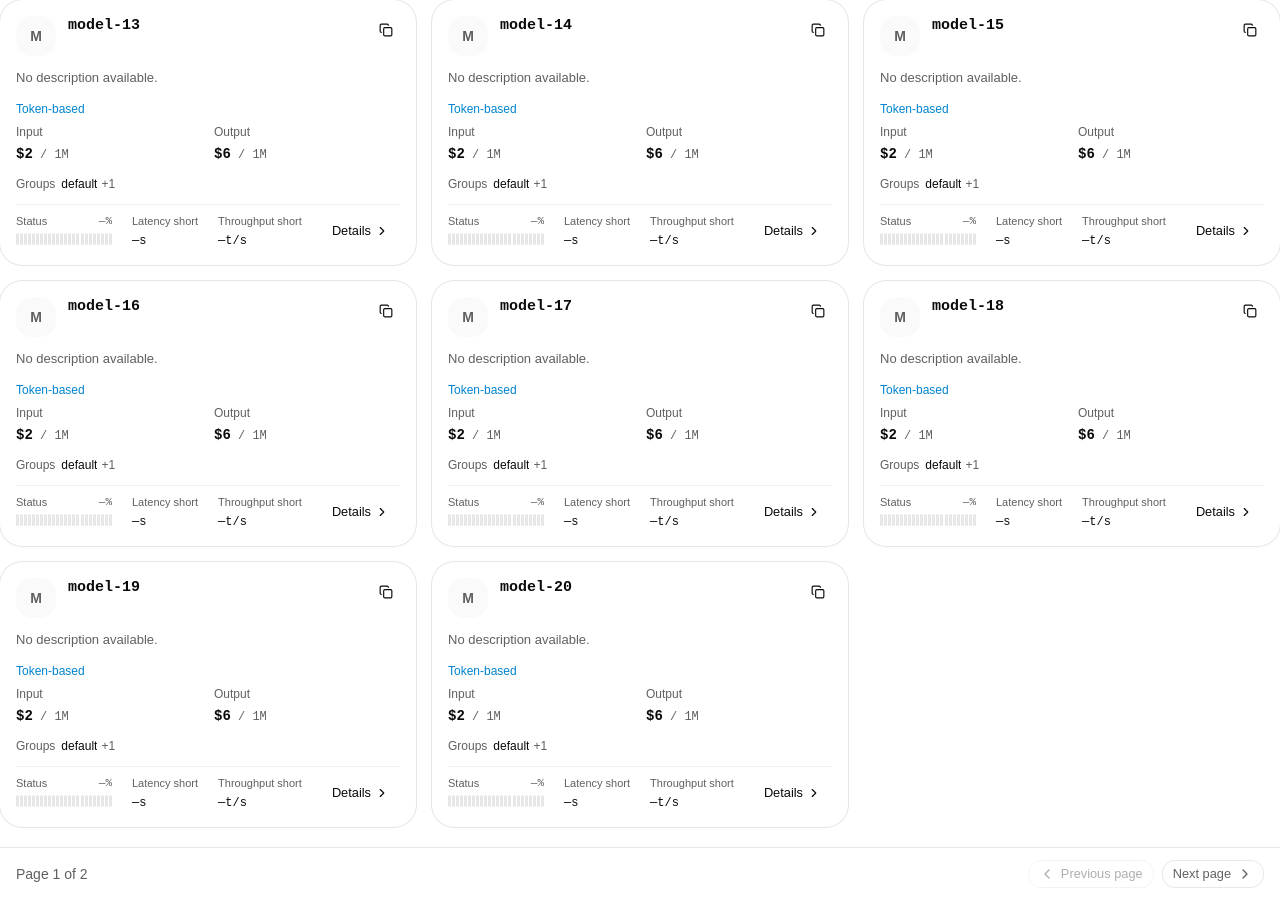
Test: model cards › paginates the model cards and disables navigation at both boundaries
(page scrolled)
Expected: the button "Previous page" is disabled, [1028, 860, 1154, 888]
Click the button "Next page" at (1213, 874), box [1162, 860, 1264, 888]
(page scrolled)
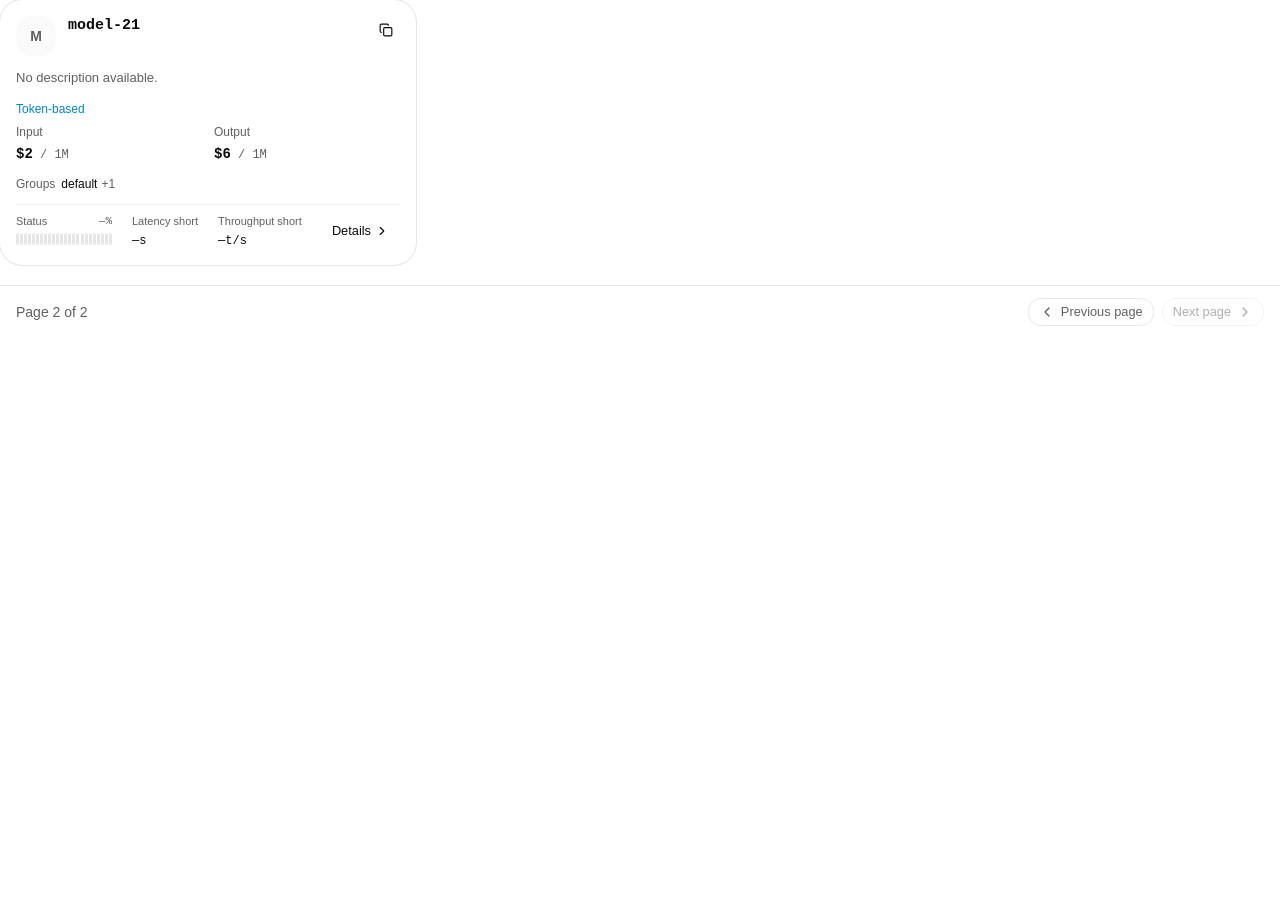
Now the number of headings is 1, box [68, 17, 140, 34]
Now the button "Next page" is disabled, box [1162, 298, 1264, 326]
Click the button "Previous page" at (1091, 312), box [1028, 298, 1154, 326]
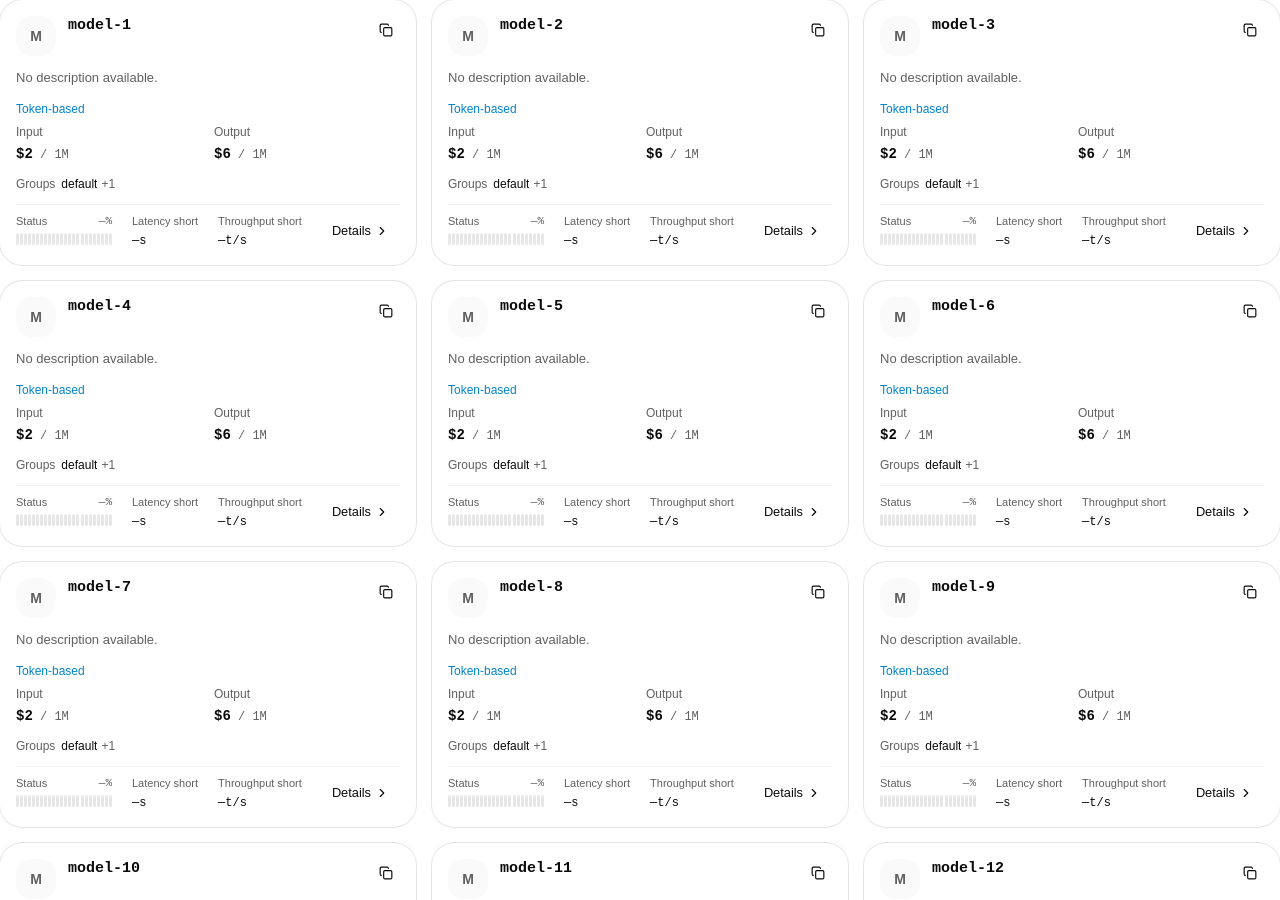
Now the heading "model-1" is shown, box [68, 17, 131, 34]
